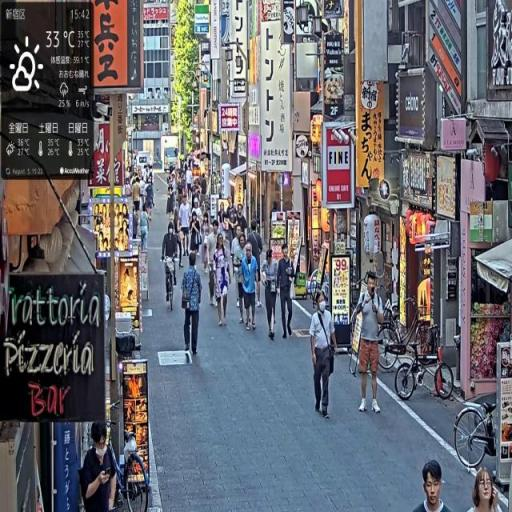person: (353, 271, 387, 416), (311, 289, 340, 424), (82, 421, 118, 512), (180, 249, 205, 368), (276, 244, 298, 341), (239, 239, 260, 334), (417, 459, 454, 512), (214, 232, 232, 328), (261, 249, 279, 343), (249, 220, 266, 310), (163, 220, 181, 300), (472, 467, 504, 512), (233, 228, 248, 321), (177, 193, 193, 265)
